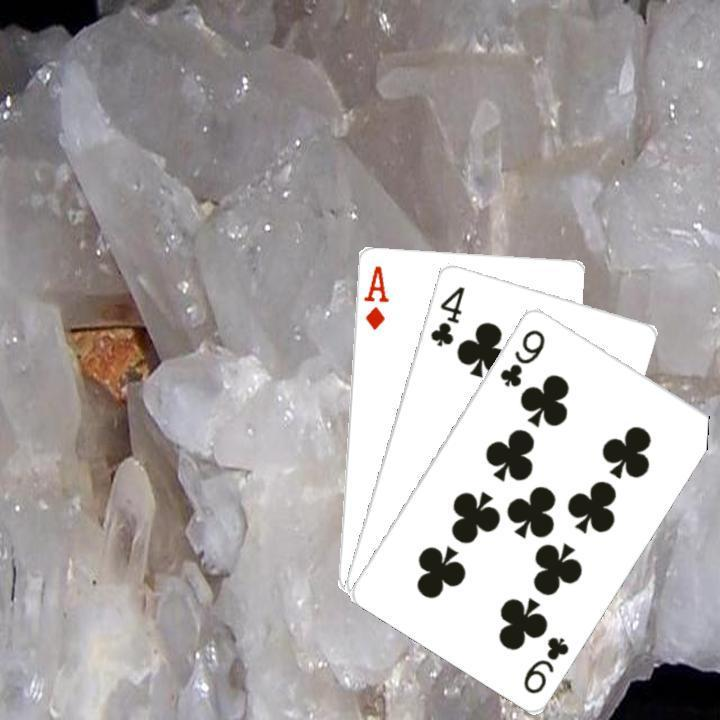4: (425, 281, 466, 348)
9: (518, 631, 571, 696), (495, 324, 547, 389)
A: (359, 261, 390, 331)
